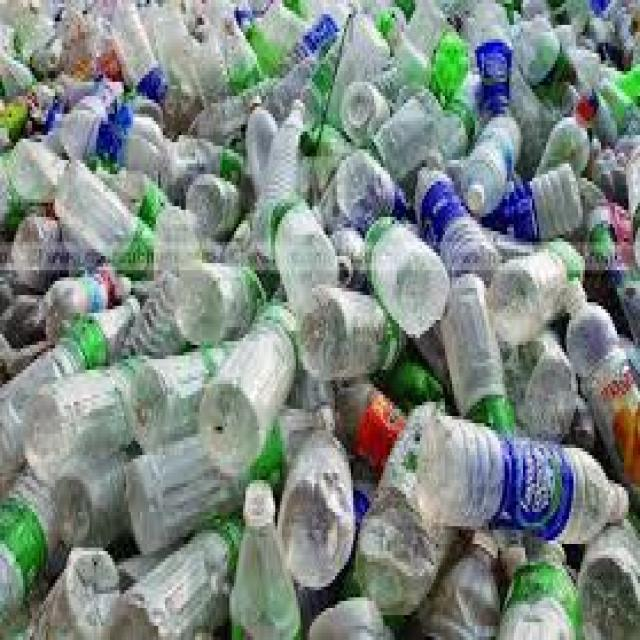plastic_bottle: (372, 407, 619, 574), (26, 323, 150, 514), (180, 282, 304, 469), (356, 181, 451, 360)
